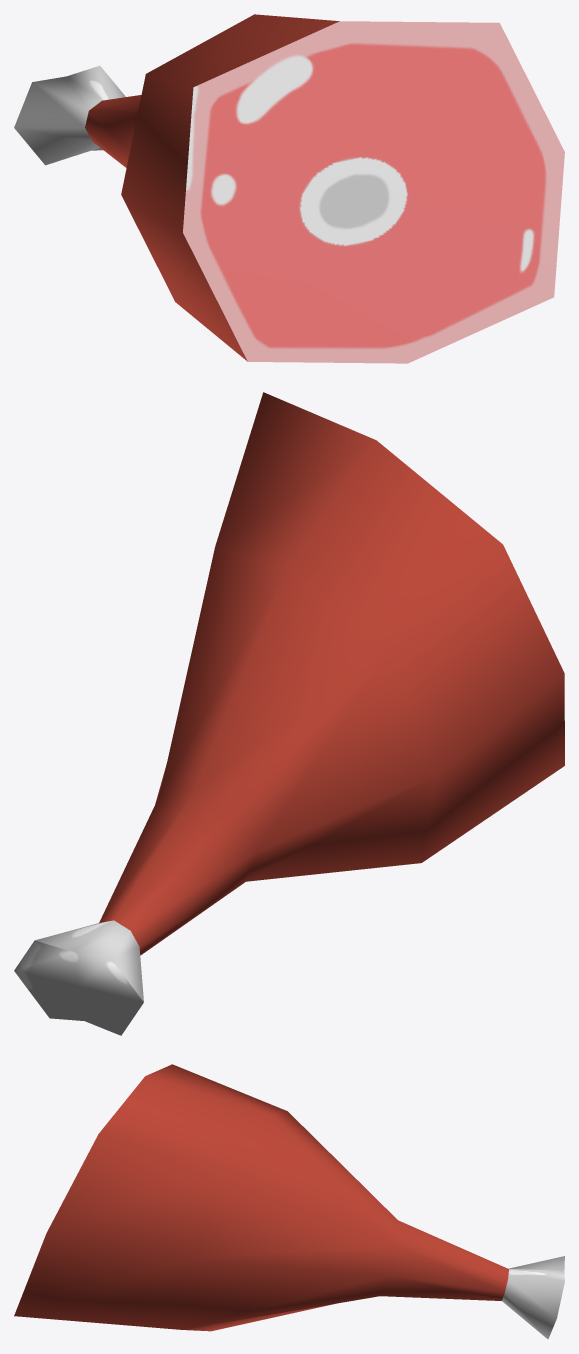
The model's file is Ham.fbx.
The picture shows the model from 3 angles, top to bottom: view 1: azimuth 30°, elevation 25°; view 2: azimuth 150°, elevation 25°; view 3: azimuth 270°, elevation 25°; orthographic projection. The views are drawn at different scales.
Visible parts, largest first — view 1: pCube1; view 2: pCube1; view 3: pCube1.
Part boxes in pixels (x1,y1,x2,y2): pCube1: (14, 14, 564, 363); pCube1: (14, 392, 564, 1035); pCube1: (14, 1064, 564, 1339).
Bounding box in the file's own units: 4.4 × 4.31 × 8.39.
